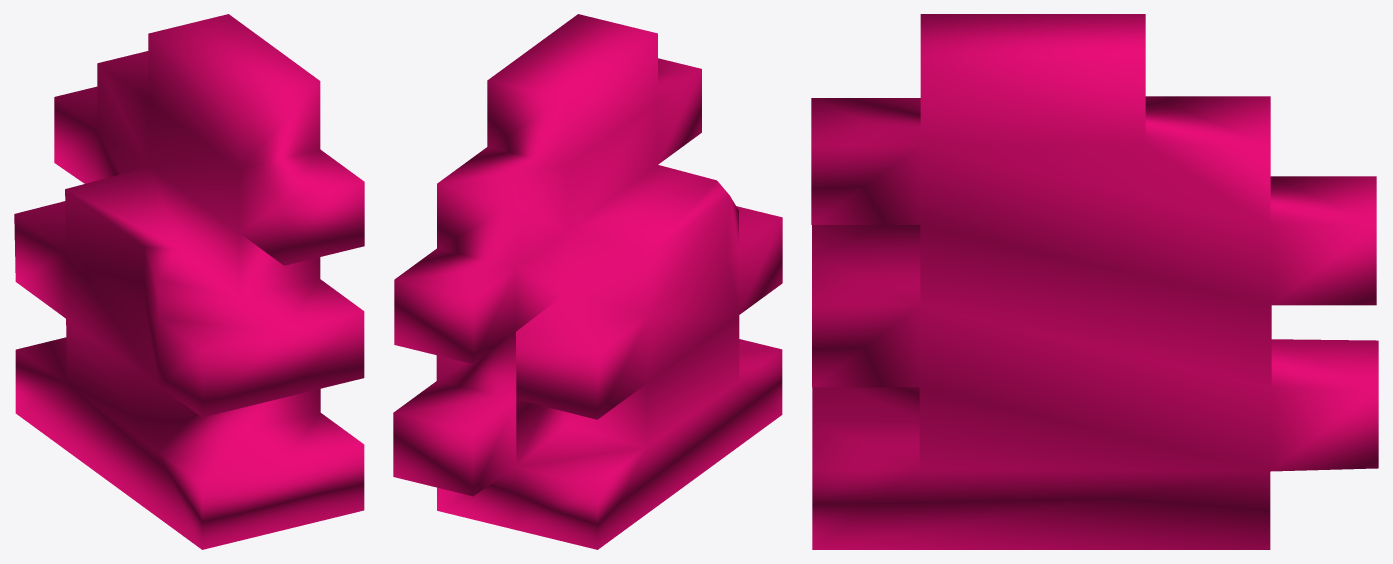
File: Brick_Break_03_Lod0.fbx
3 views of the same model, side by side, from view 1: azimuth 30°, elevation 25°; view 2: azimuth 150°, elevation 25°; view 3: azimuth 270°, elevation 25° (orthographic). The views are drawn at different scales.
Visible parts, largest first — view 1: Brick_Break_03_Lod0; view 2: Brick_Break_03_Lod0; view 3: Brick_Break_03_Lod0.
Boxes of the visible parts, left/top/right/bottom form: Brick_Break_03_Lod0: left=14, top=14, right=364, bottom=549; Brick_Break_03_Lod0: left=393, top=14, right=782, bottom=549; Brick_Break_03_Lod0: left=811, top=14, right=1378, bottom=549.
Size of the model in its own units: 19.9 by 45.89 by 48.35.
